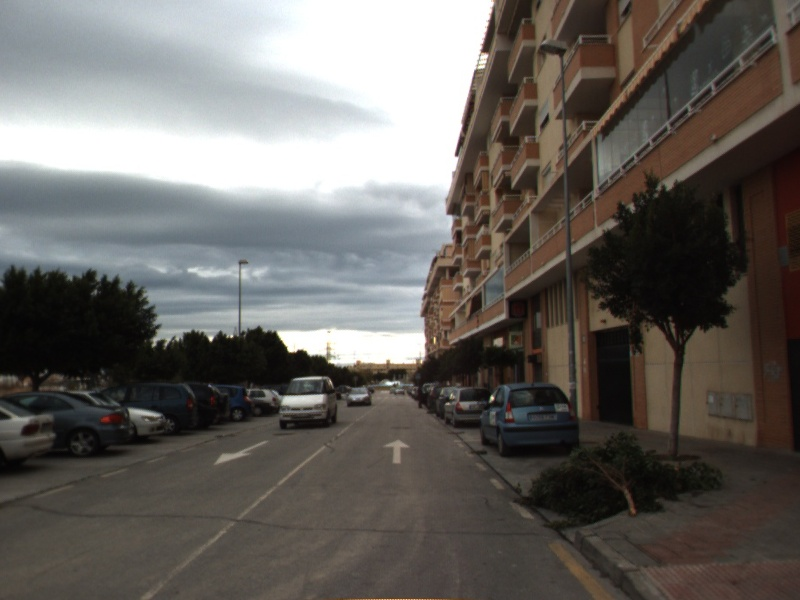STRAIGHT: (381, 437, 413, 466)
